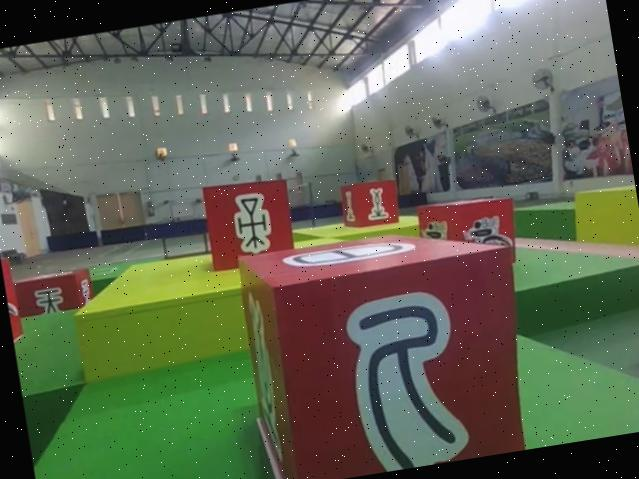R1: (412, 188, 524, 282), (0, 251, 28, 357)
R2 Fake: (231, 208, 545, 479)
R2 Real: (196, 173, 296, 272), (334, 174, 403, 233)
